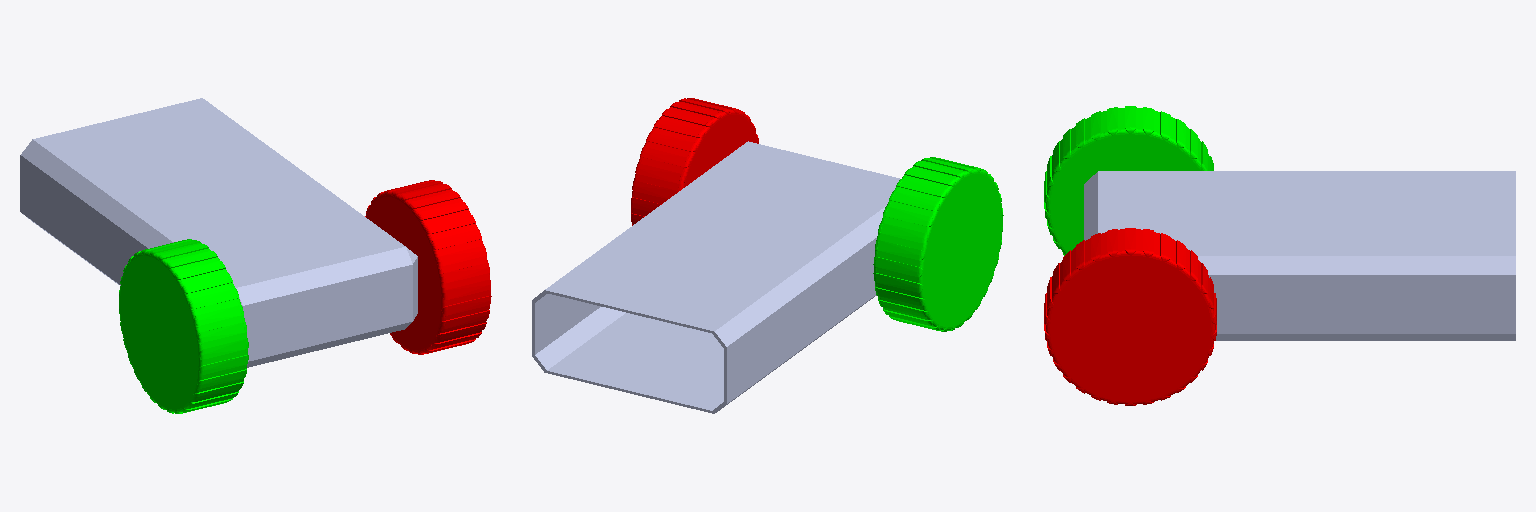
robot.urdf — balancebot:
<?xml version="1.0" encoding="utf-8"?>
<robot name="balancebot">
  <link name="base_link">
    <inertial>
      <origin xyz="-0.000213  -0.337033 0.000683" rpy="0 0 0" />
      <mass value="100" />
      <inertia ixx="0.002560" ixy="0" ixz="0" iyy="0.001089" iyz="0" izz="0.003229" />
    </inertial>
    <visual>
      <origin xyz="0 0 0" rpy="0 0 0" />
      <geometry>
        <mesh filename="meshes/base_link.STL" />
      </geometry>
      <material name="">
        <color rgba="0.792 0.820 0.933 1" />
      </material>
    </visual>
    <collision>
      <origin xyz="0 0 0" rpy="0 0 0" />
      <geometry>
        <mesh filename="meshes/base_link.STL" />
      </geometry>
    </collision>
  </link>

  <link name="L">
    <inertial>
      <origin xyz="0 -0.020064 0" rpy="0 0 0" />
      <mass value="0.444958" />
      <inertia ixx="0.000454" ixy="0" ixz="0" iyy="0.000789" iyz="0" izz="0.000454" />
    </inertial>
    <visual>
      <origin xyz="0 0 0" rpy="0 0 0" />
      <geometry>
        <mesh filename="meshes/L.STL" />
      </geometry>
      <material name="red">
        <color rgba="1 0 0 1" />
      </material>
    </visual>
    <collision>
      <origin xyz="0 0 0" rpy="0 0 0" />
      <geometry>
        <mesh filename="meshes/L.STL" />
      </geometry>
    </collision>
  </link>

  <joint name="L_j" type="continuous">
    <origin xyz="0.079737 -0.445274 0.000683" rpy="1.5708 -1.5708 0" />
    <parent link="base_link" />
    <child link="L" />
    <axis xyz="0 1 0" />
  </joint>

  <link name="R">
    <inertial>
      <origin xyz="0 -0.020064 0" rpy="0 0 0" />
      <mass value="0.444958" />
      <inertia ixx="0.000454" ixy="0" ixz="0" iyy="0.000789" iyz="0" izz="0.000454" />
    </inertial>
    <visual>
      <origin xyz="0 0 0" rpy="0 0 0" />
      <geometry>
        <mesh filename="meshes/R.STL" />
      </geometry>
      <material name="green">
        <color rgba="0 1 0 1" />
      </material>
    </visual>
    <collision>
      <origin xyz="0 0 0" rpy="0 0 0" />
      <geometry>
        <mesh filename="meshes/R.STL" />
      </geometry>
    </collision>
  </link>

  <joint name="R_j" type="continuous">
    <origin xyz="-0.080163 -0.445274 0.000683" rpy="1.5708 1.5708 0" />
    <parent link="base_link" />
    <child link="R" />
    <axis xyz="0 1 0" />
  </joint>
</robot>


--- Render facts (derived) ---
3 views of the same robot in one strip: view 1: azimuth 30°, elevation 25°; view 2: azimuth 150°, elevation 25°; view 3: azimuth 270°, elevation 25° (orthographic).
Model balancebot with 3 links and 2 joints (2 continuous), rooted at base_link, posed every joint at zero.
Visible links, largest first — view 1: base_link, R, L; view 2: base_link, R, L; view 3: base_link, L, R.
Link boxes in pixels (box(x1,y1,x2,y2)): base_link: box(20, 98, 417, 367); R: box(119, 239, 248, 413); L: box(365, 180, 491, 354); base_link: box(532, 141, 899, 413); R: box(873, 157, 1003, 331); L: box(631, 98, 758, 225); base_link: box(1084, 171, 1515, 340); L: box(1044, 228, 1216, 405); R: box(1044, 106, 1213, 255).
Size in the robot's own frame: 0.24 by 0.3274 by 0.12 metres.
Meshes: 3 distinct files referenced, 3 mesh visuals loaded (3 binary STL).